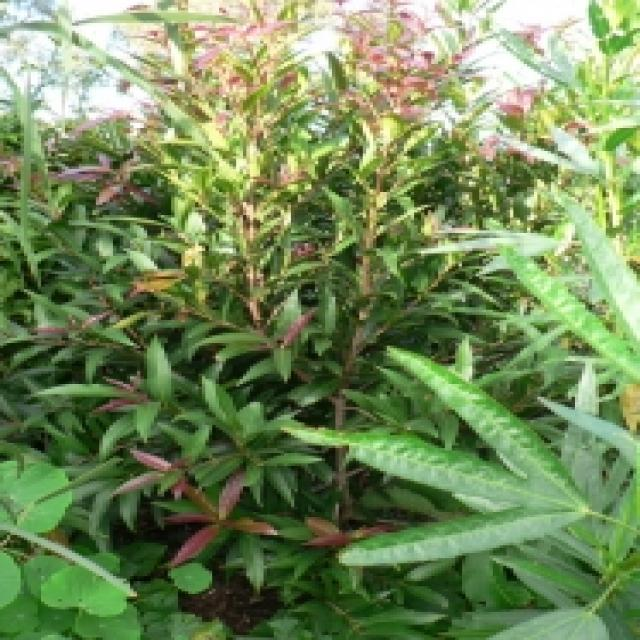Medicinal-Rose Apple: (67, 11, 398, 550)
